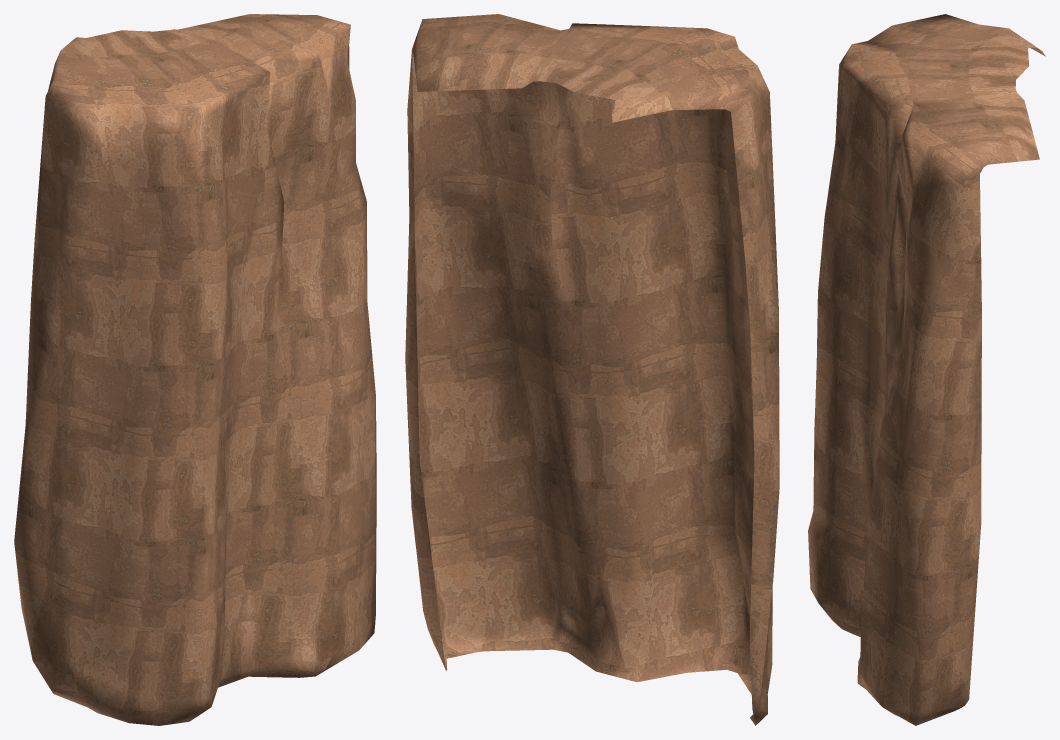
The model's file is Ob_RockCliff09.fbx.
3 views of the same model, side by side, from view 1: azimuth 30°, elevation 25°; view 2: azimuth 150°, elevation 25°; view 3: azimuth 270°, elevation 25° (orthographic). The views are drawn at different scales.
Parts seen in each view (by area): view 1: Ob_RockCliff09; view 2: Ob_RockCliff09; view 3: Ob_RockCliff09.
Boxes of the visible parts, <box> form: Ob_RockCliff09: <box>14,14,376,725</box>; Ob_RockCliff09: <box>405,14,779,725</box>; Ob_RockCliff09: <box>808,14,1045,725</box>.
Bounding box in the file's own units: 46797 × 79395 × 29449.
